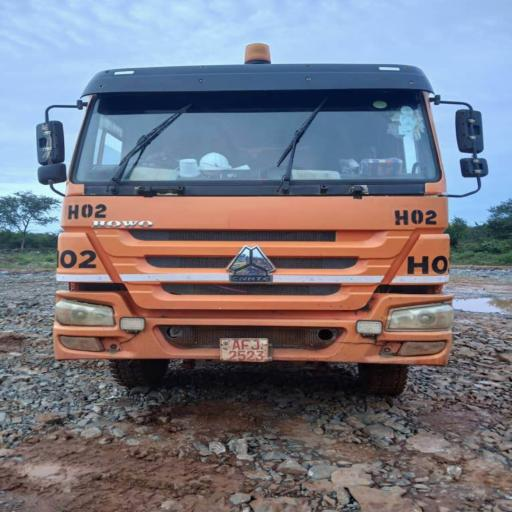number-plates: (221, 336, 271, 364)
